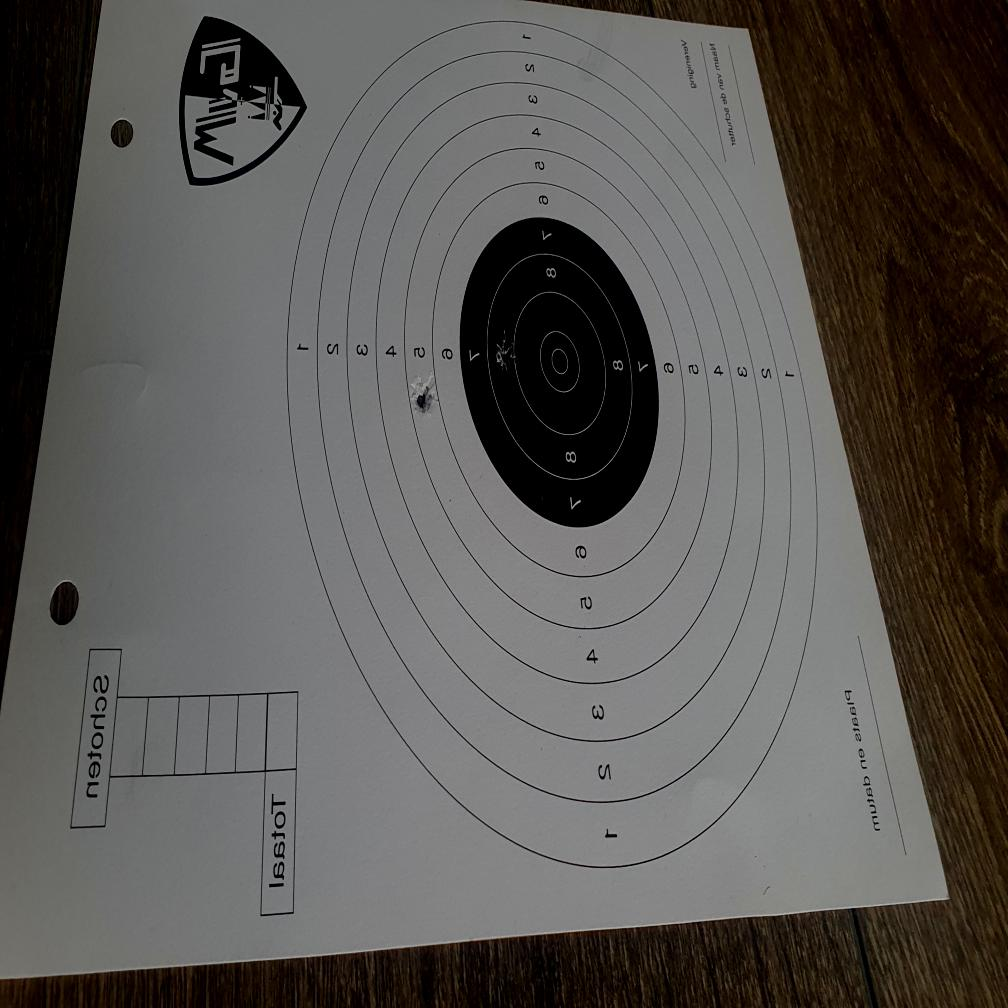5: (409, 371, 438, 420)
9: (496, 332, 519, 375)
Target: (285, 16, 819, 872)
black_contour: (460, 216, 660, 528)
